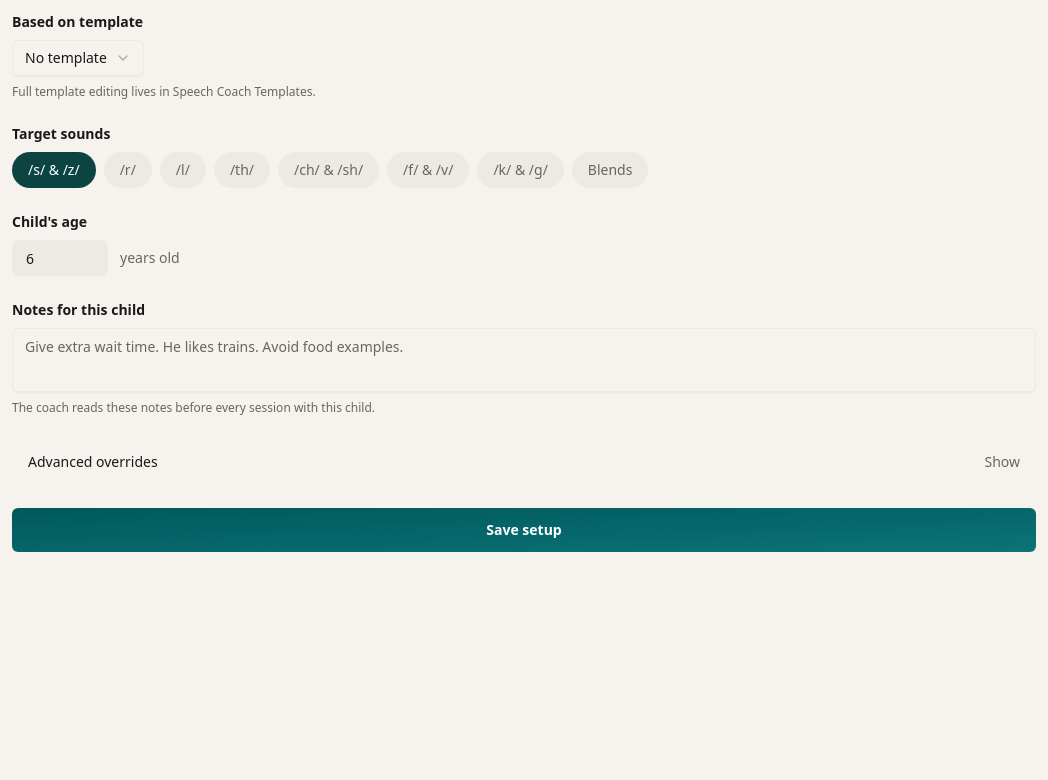
it: PerPatientCoachSetup › Advanced section is collapsed by default
The image size is (1048, 780).
Expected: the text "Coach tone" is not shown
Click the text "Advanced overrides": [93, 462] box [28,452,158,472]
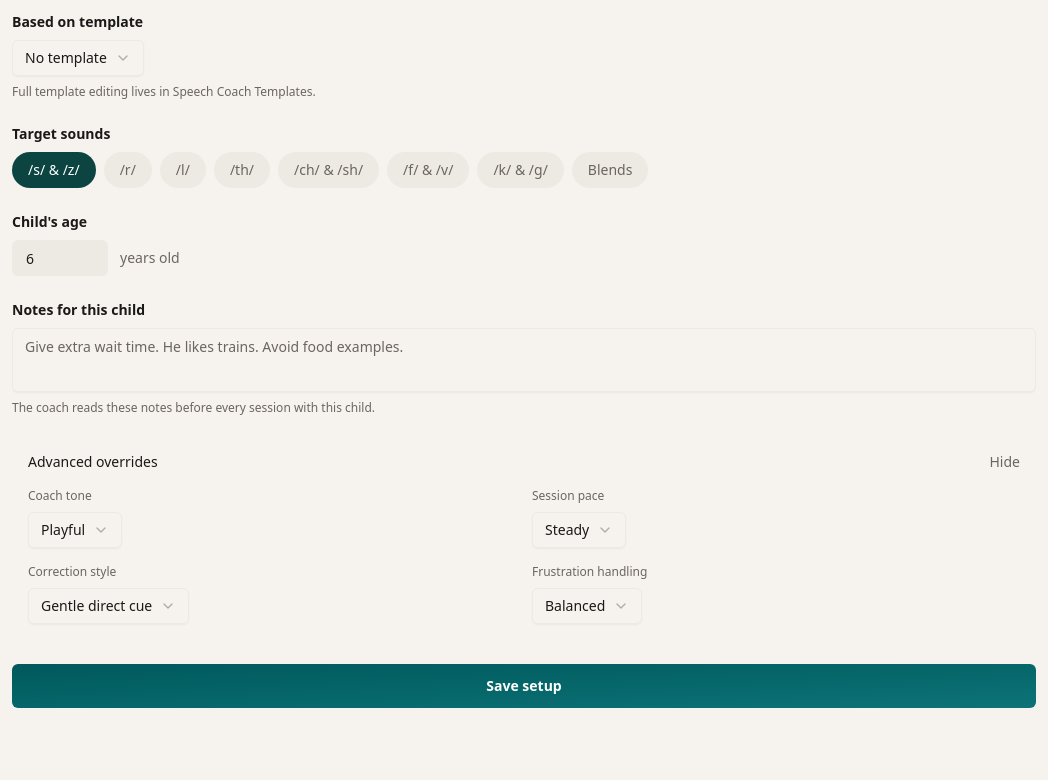
Now the text "Coach tone" is shown, box [28,487,92,504]
